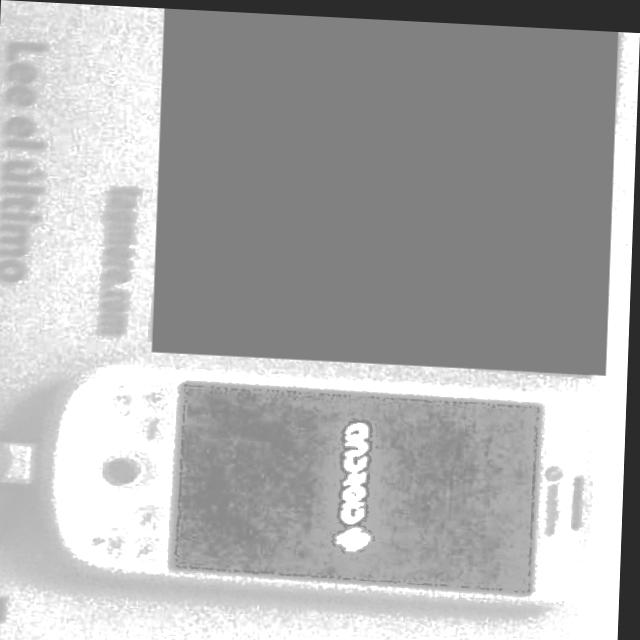qr_code: (153, 7, 618, 369)
